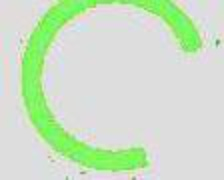ProgressBar: (1, 1, 223, 179)
